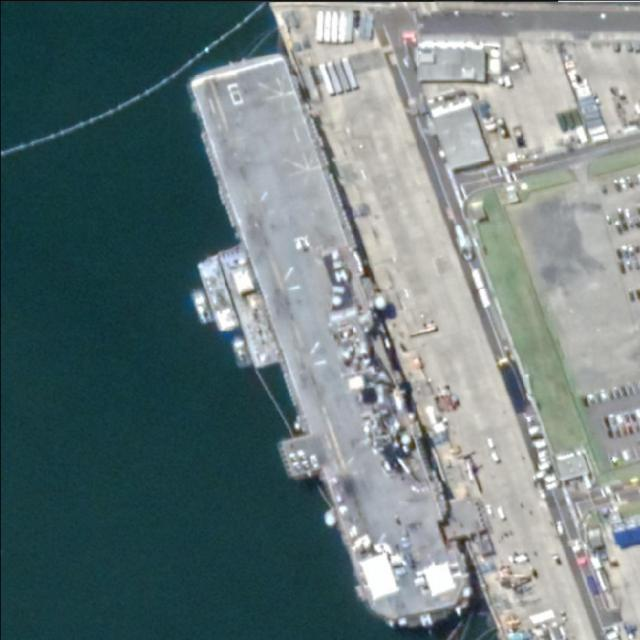Landing: (184, 41, 475, 637)
